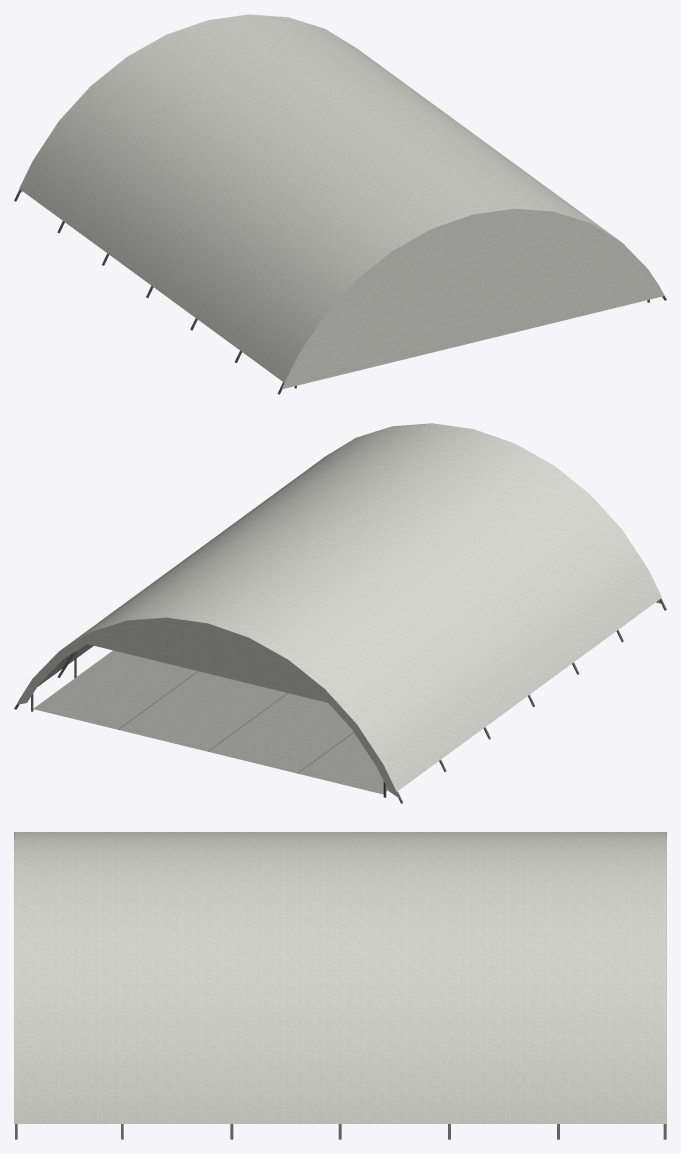
The model's file is hangar-arched-fabric-white-25x30-cbj_LOD01.gltf.
3 renders of one model, top to bottom at view 1: azimuth 30°, elevation 25°; view 2: azimuth 150°, elevation 25°; view 3: azimuth 270°, elevation 25°, orthographic. The views are drawn at different scales.
Visible parts, largest first — view 1: hanger01; view 2: hanger01; view 3: hanger01.
Boxes of the visible parts, x1,y1,x2,y2 form: hanger01: (14, 14, 666, 394); hanger01: (14, 423, 666, 803); hanger01: (14, 832, 666, 1139).
Bounding box in the file's own units: 25.33 × 8.35 × 30.
